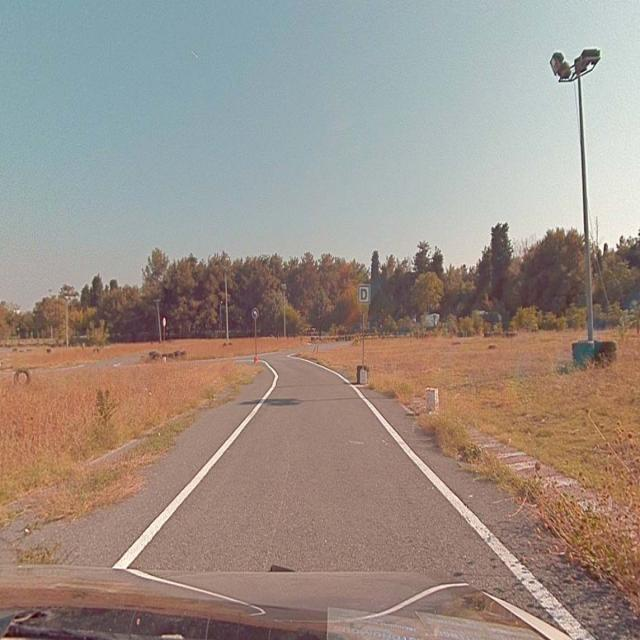durak: (358, 285, 370, 303)
sol: (252, 308, 258, 318)
